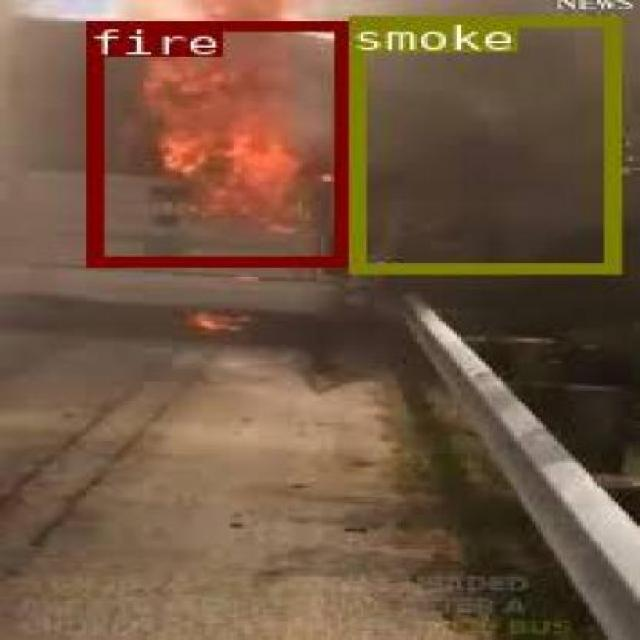Fire: (84, 18, 347, 266)
Smoke: (347, 16, 615, 272)
